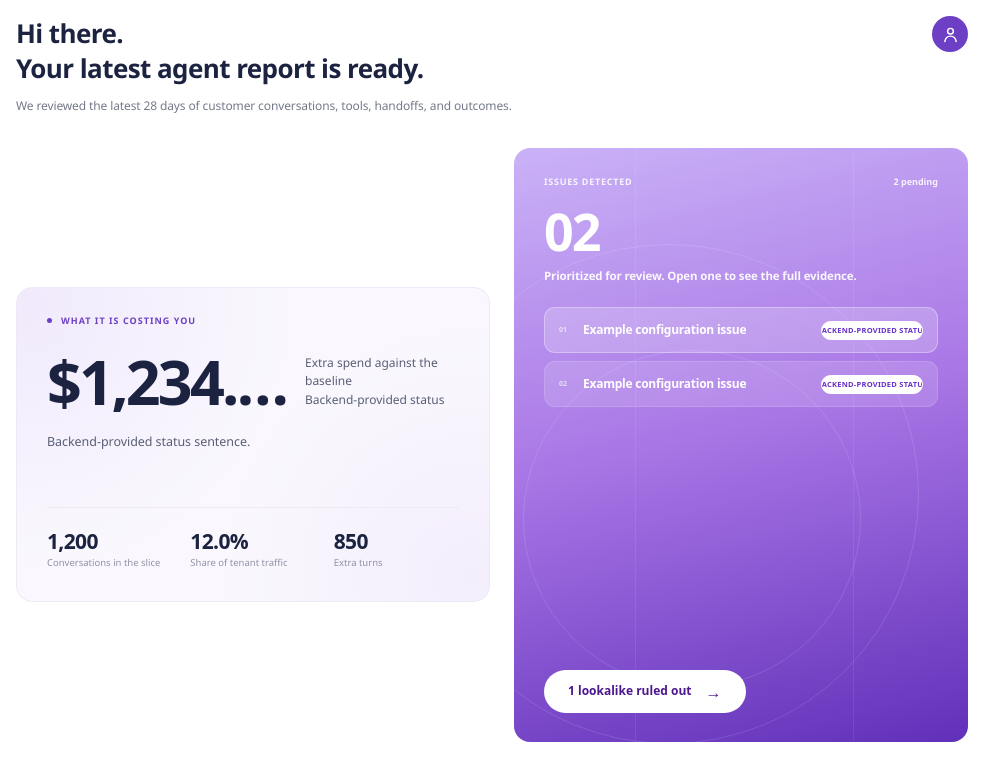
Test case: Nexus Loop overview › makes a displayed number definition available from the keyboard
This screenshot has width=985, height=759.
Click the button named "Extra spend against the baseline: $1,234.50" at (170, 382), box [47, 351, 292, 412]
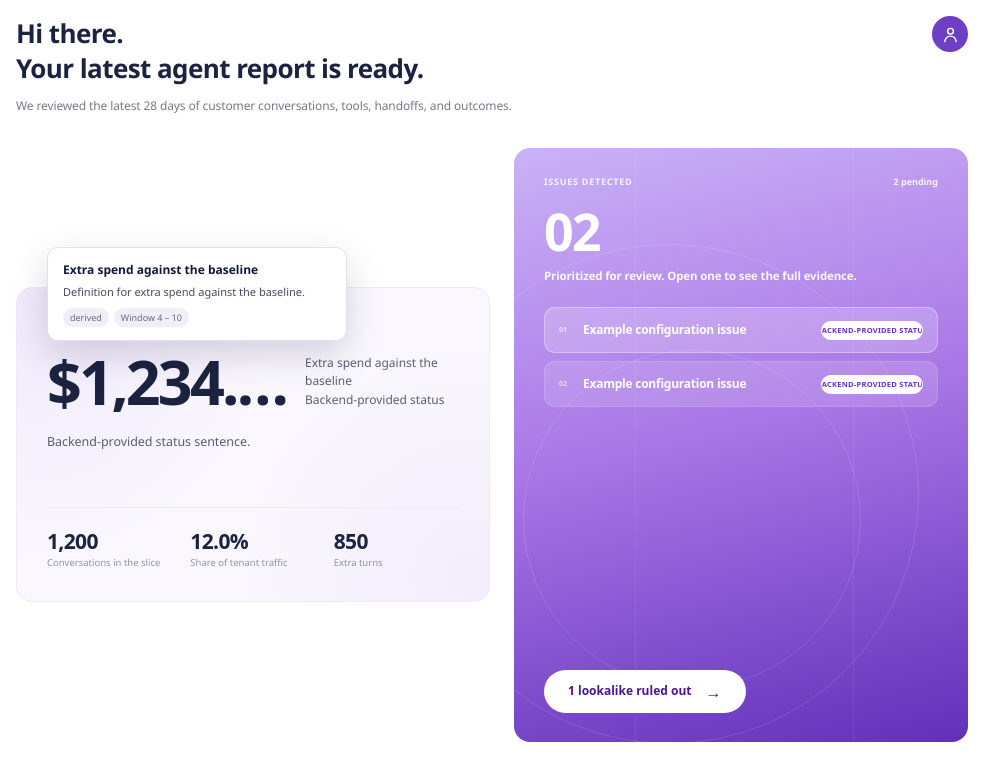
Now the tooltip shows "Definition for extra spend against the baseline.", box [63, 285, 305, 300]
